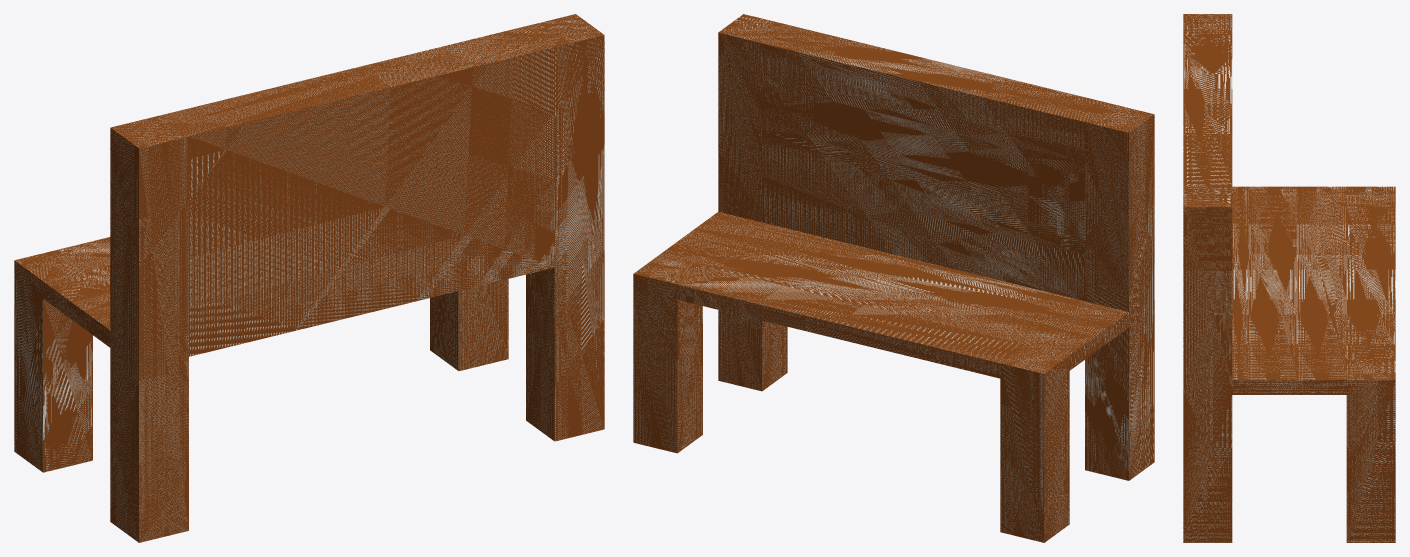
3 renders of one model, left to right at view 1: azimuth 30°, elevation 25°; view 2: azimuth 150°, elevation 25°; view 3: azimuth 270°, elevation 25°, orthographic. The views are drawn at different scales.
Parts seen in each view (by area): view 1: mesh1_mesh1-geometry; view 2: mesh1_mesh1-geometry; view 3: mesh1_mesh1-geometry.
Part boxes in pixels (x1,y1,x2,y2): mesh1_mesh1-geometry: [14, 14, 604, 542]; mesh1_mesh1-geometry: [633, 14, 1154, 542]; mesh1_mesh1-geometry: [1183, 14, 1395, 542].
Bounding box in the file's own units: 0.7311 × 0.5918 × 0.3394.
